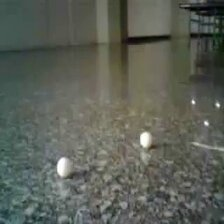w: (57, 157, 75, 176), (140, 132, 153, 147)
